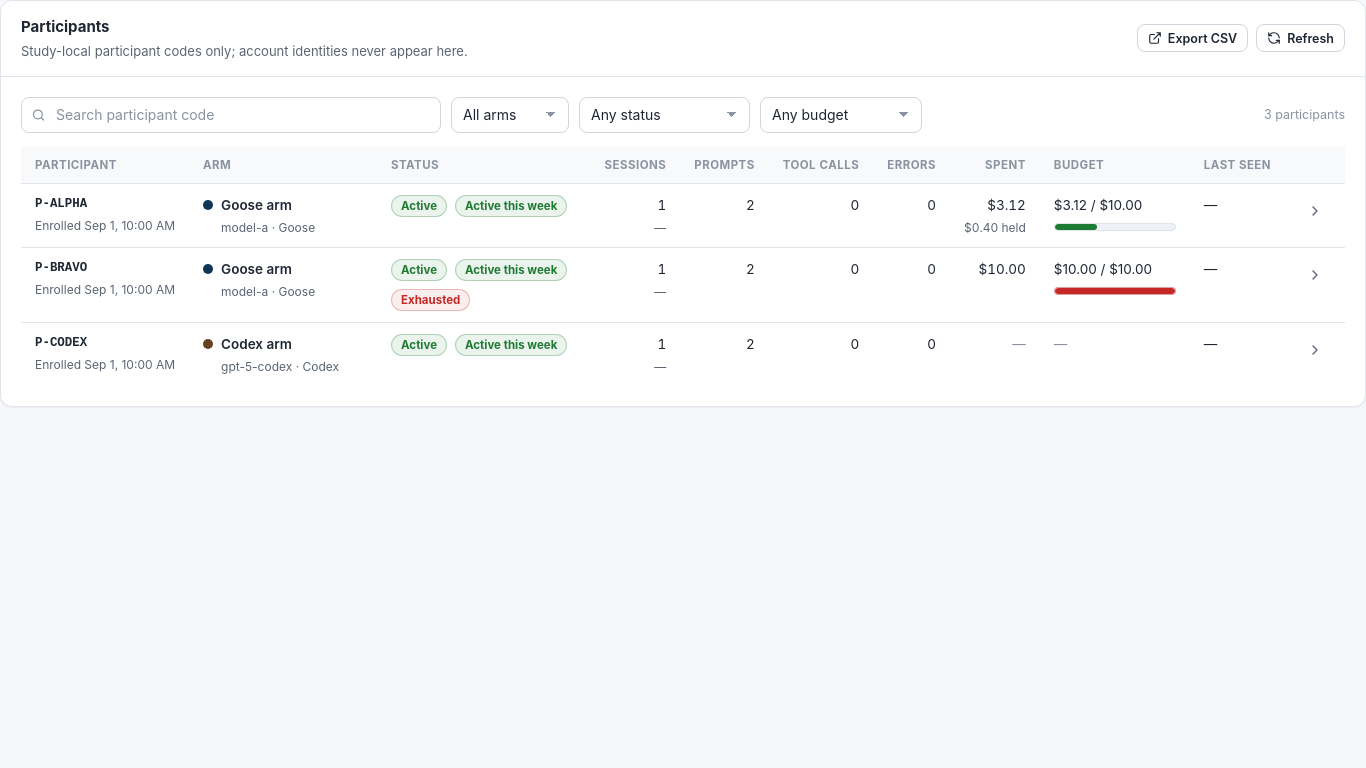
Test case: a stopped study offers no budget adjustment
The width and height of the screenshot is (1366, 768).
Click the button named "Open dashboard for participant P-ALPHA" at coordinates (1315, 211), box [1299,195,1331,227]
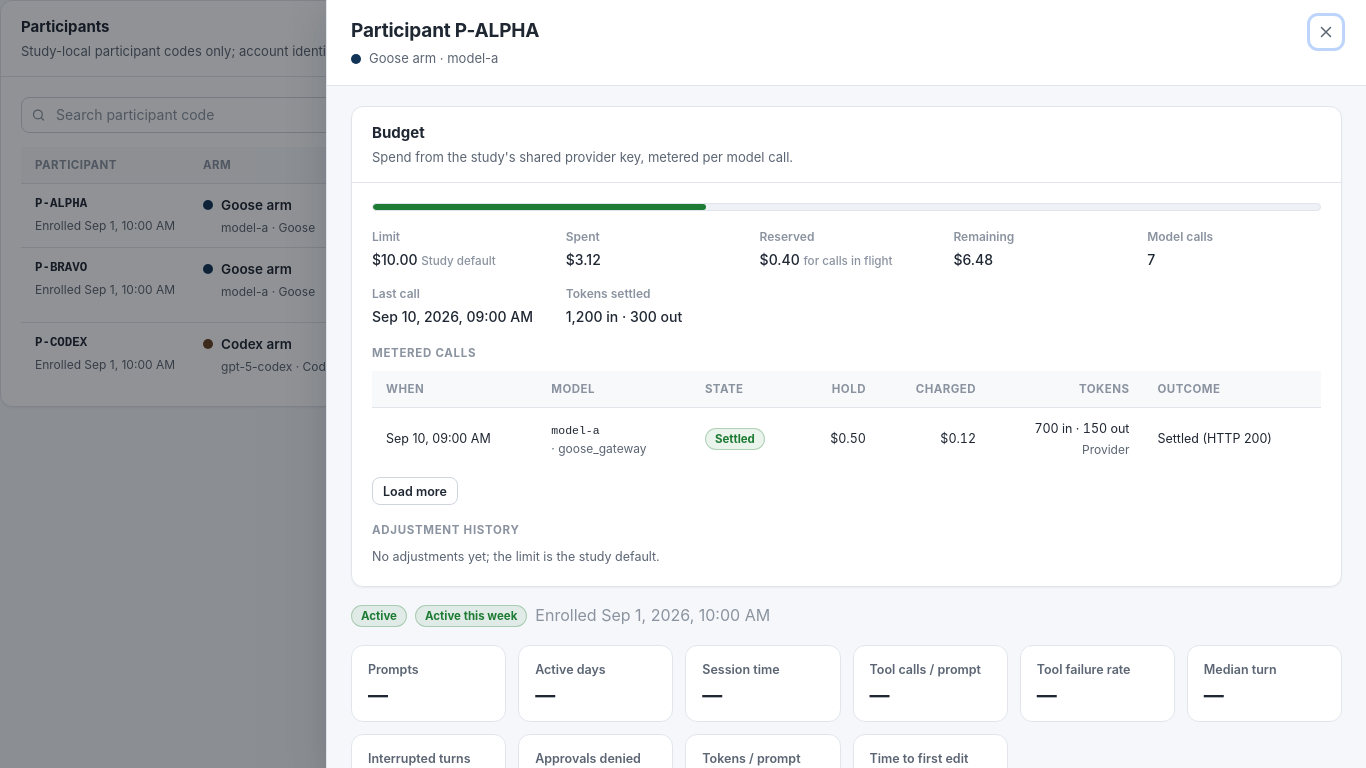
Expected: the text "$6.48" is shown, [953,251,993,268]
